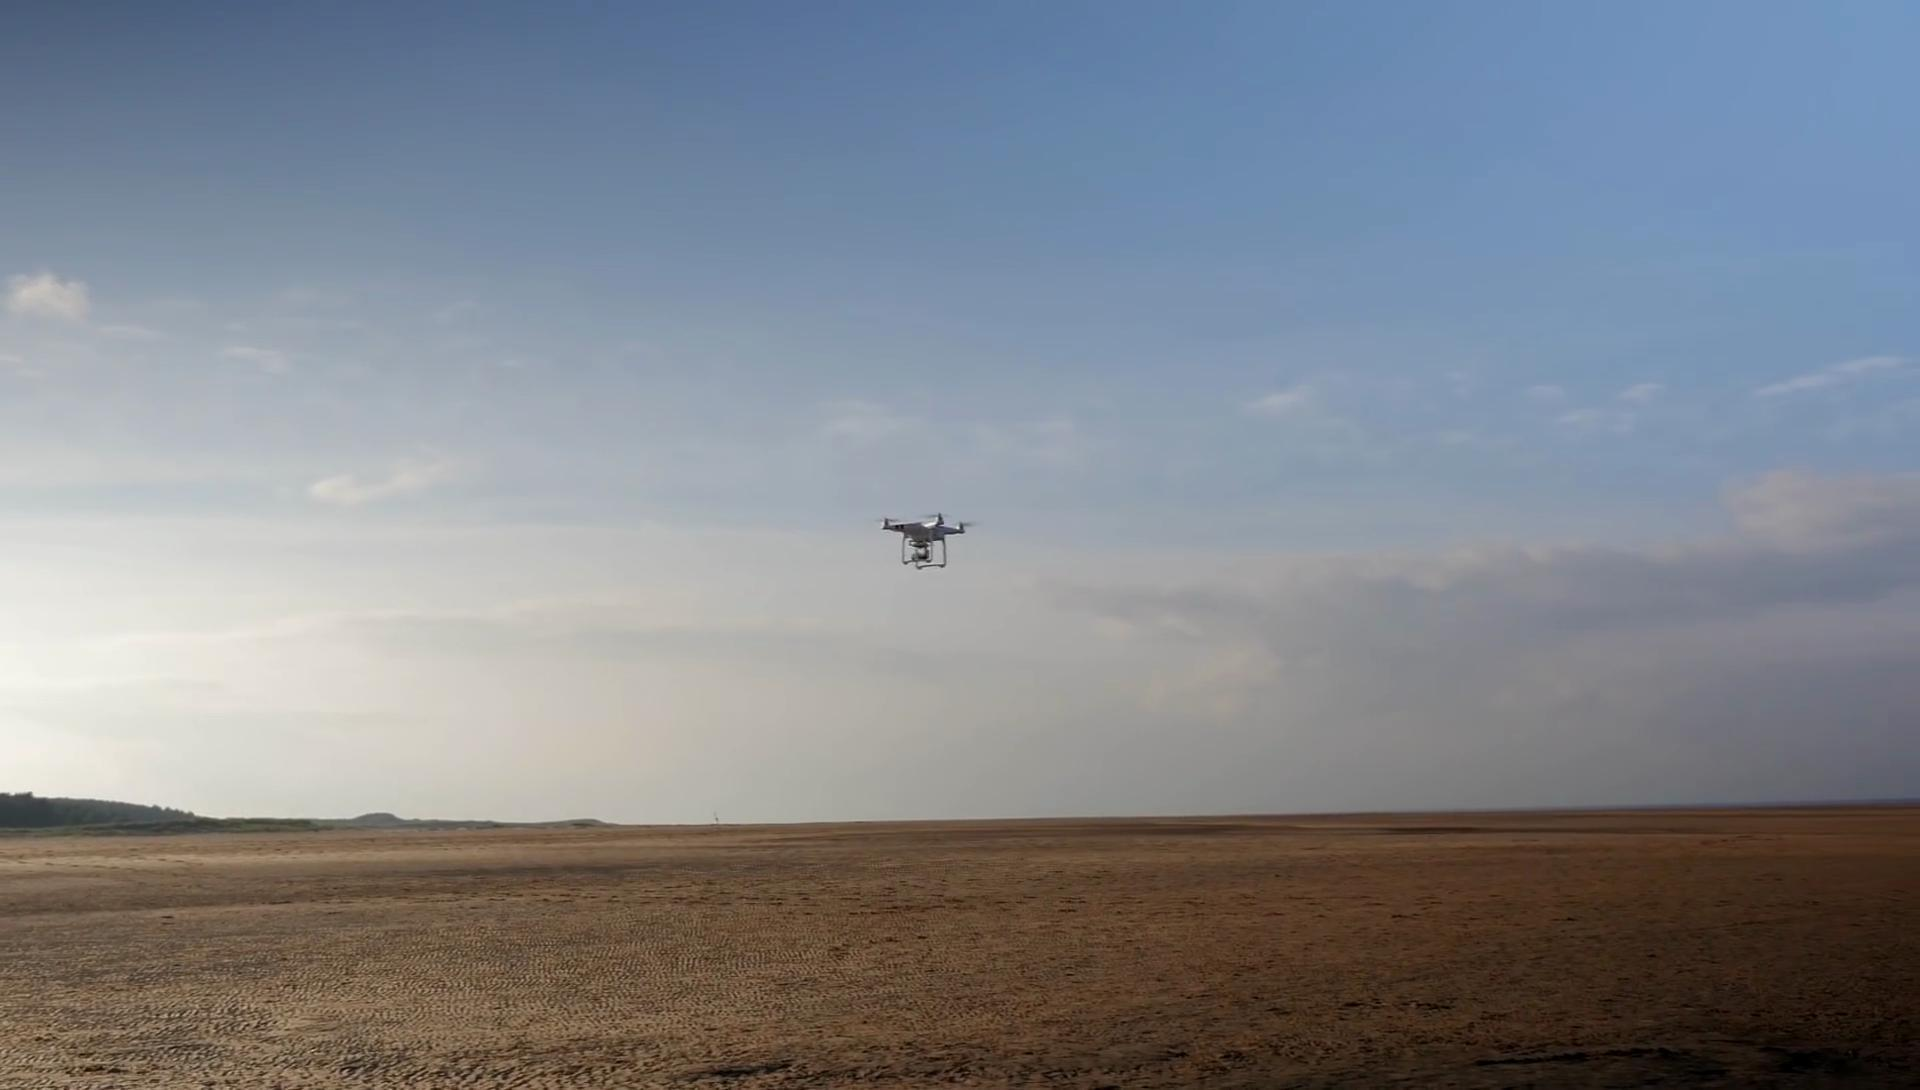drone: (873, 507, 975, 576)
